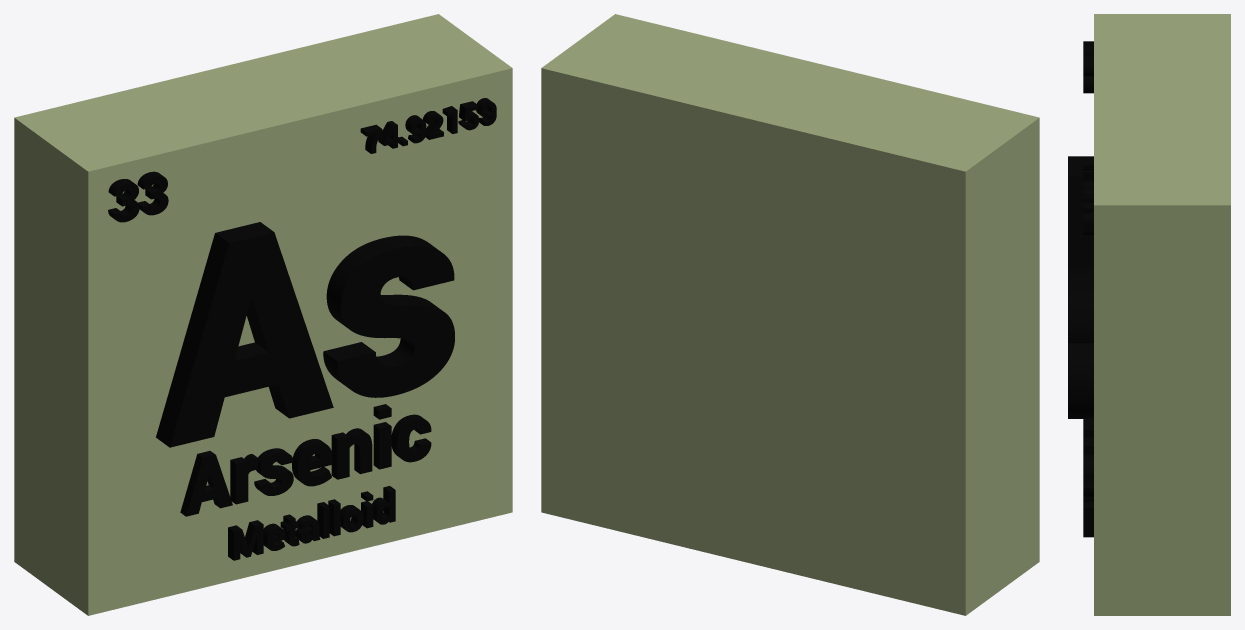
The picture shows the model from 3 angles, left to right: view 1: azimuth 30°, elevation 25°; view 2: azimuth 150°, elevation 25°; view 3: azimuth 270°, elevation 25°; orthographic projection. The views are drawn at different scales.
Parts seen in each view (by area): view 1: Cube, Text, Text.001, Text.002, Text.004, Text.003; view 2: Cube; view 3: Cube, Text, Text.001, Text.004, Text.003, Text.002.
Boxes of the visible parts, x1,y1,x2,y2 form: Cube: [14, 14, 512, 615]; Text: [156, 222, 454, 447]; Text.001: [180, 404, 431, 516]; Text.002: [228, 486, 395, 560]; Text.004: [360, 98, 496, 153]; Text.003: [108, 171, 168, 222]; Cube: [541, 14, 1039, 615]; Cube: [1094, 14, 1230, 615]; Text: [1068, 156, 1093, 418]; Text.001: [1083, 419, 1093, 497]; Text.004: [1083, 158, 1093, 235]; Text.003: [1083, 41, 1093, 93]; Text.002: [1083, 497, 1093, 537].
Size of the model in its own units: 178 by 178 by 63.95.
